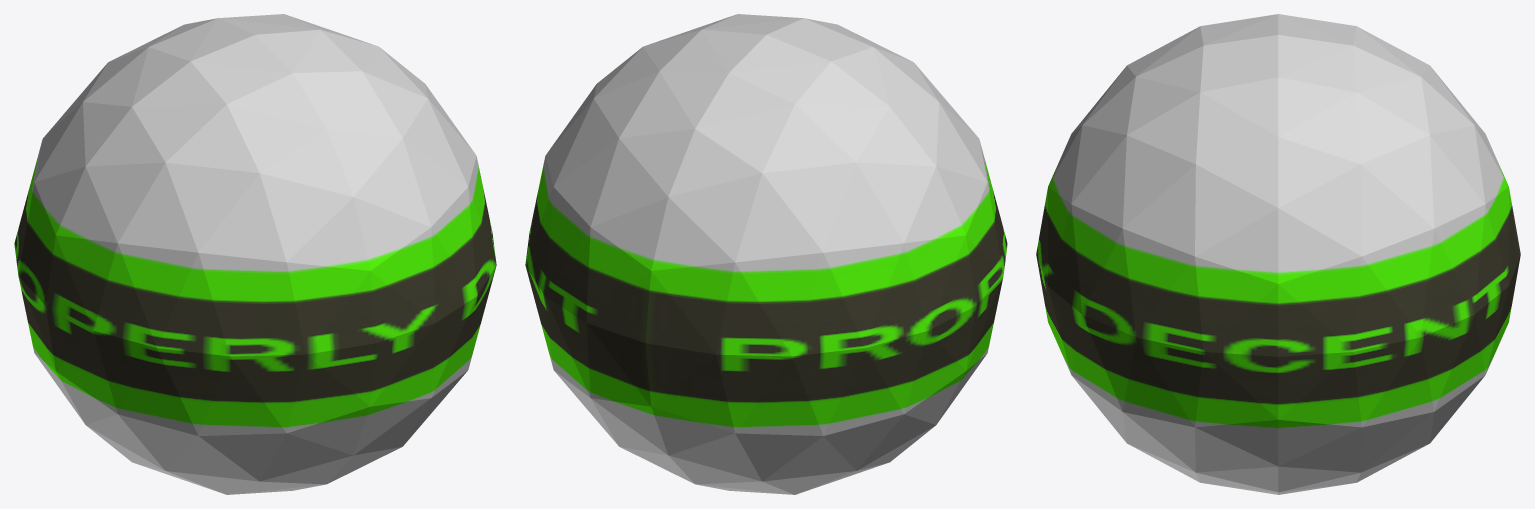
Rendered from generic.glb.
3 renders of one model, left to right at view 1: azimuth 30°, elevation 25°; view 2: azimuth 150°, elevation 25°; view 3: azimuth 270°, elevation 25°, orthographic.
Visible parts, largest first — view 1: generic ball; view 2: generic ball; view 3: generic ball.
Part boxes in pixels (x1,y1,x2,y2): generic ball: (14, 14, 496, 494); generic ball: (525, 14, 1007, 494); generic ball: (1036, 14, 1520, 494).
Bounding box in the file's own units: 0.22 × 0.22 × 0.22.
Materials: 1 (1 with a texture image).
